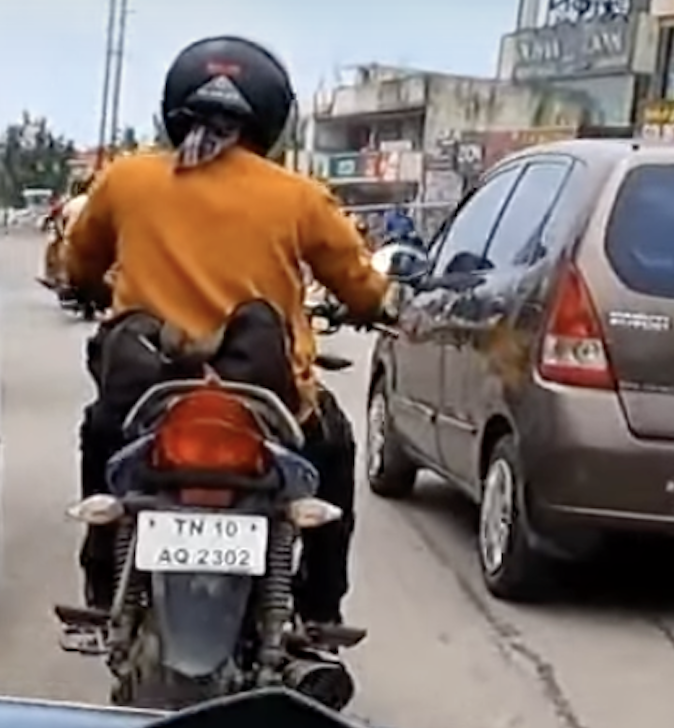motor: (43, 265, 395, 715)
number: (138, 512, 264, 575)
with helmet: (161, 32, 293, 159)
